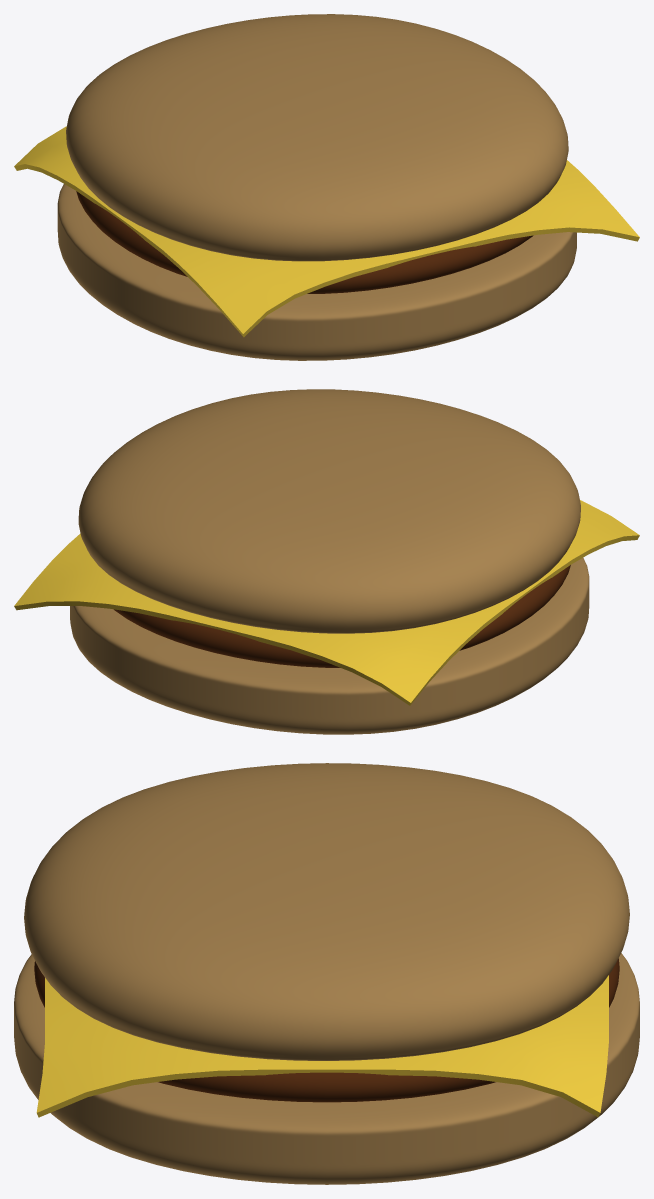
Rendered from hamburger.glb.
3 views of the same model, one above another, from view 1: azimuth 30°, elevation 25°; view 2: azimuth 150°, elevation 25°; view 3: azimuth 270°, elevation 25° (orthographic). The views are drawn at different scales.
Parts seen in each view (by area): view 1: Cube.002, Cube, Plane, Cube.001; view 2: Cube.002, Cube, Plane, Cube.001; view 3: Cube.002, Cube, Plane, Cube.001.
Boxes of the visible parts, left/top/right/bottom form: Cube.002: left=66, top=14, right=568, bottom=261; Cube: left=57, top=184, right=576, bottom=360; Plane: left=14, top=126, right=639, bottom=337; Cube.001: left=76, top=191, right=533, bottom=293; Cube.002: left=78, top=389, right=580, bottom=633; Cube: left=70, top=558, right=589, bottom=734; Plane: left=14, top=500, right=639, bottom=705; Cube.001: left=114, top=565, right=570, bottom=667; Cube.002: left=24, top=763, right=629, bottom=1060; Cube: left=14, top=953, right=639, bottom=1184; Plane: left=36, top=975, right=608, bottom=1117; Cube.001: left=34, top=958, right=619, bottom=1102.
Bounding box in the file's own units: 9.17 × 3.79 × 9.17.
